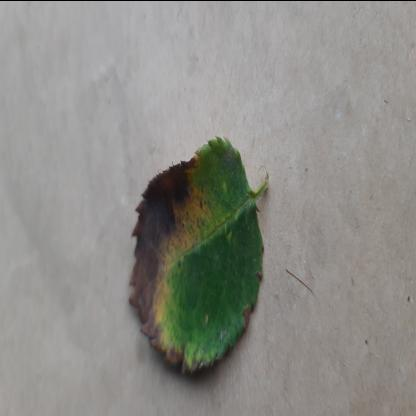black-spot: (126, 124, 268, 376)
